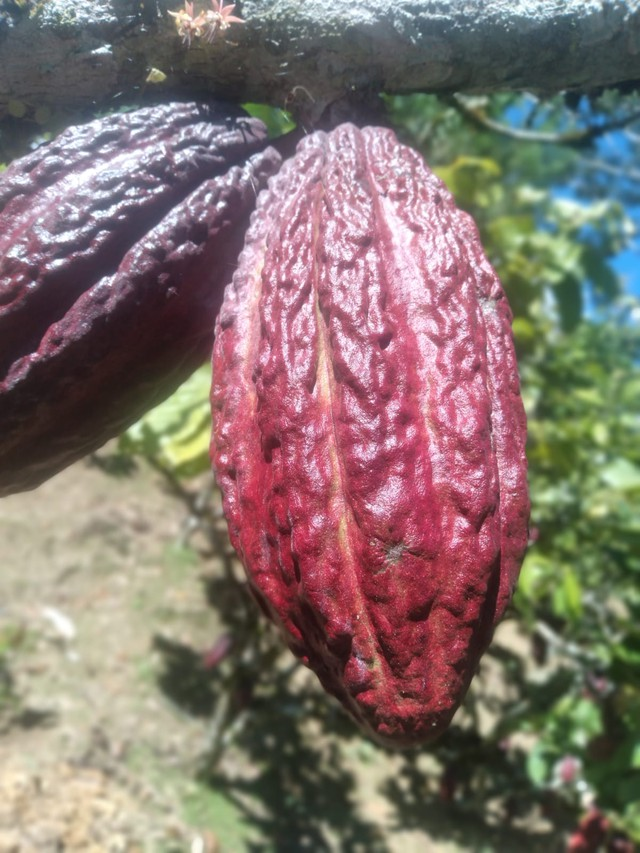Health: (182, 101, 542, 761)
